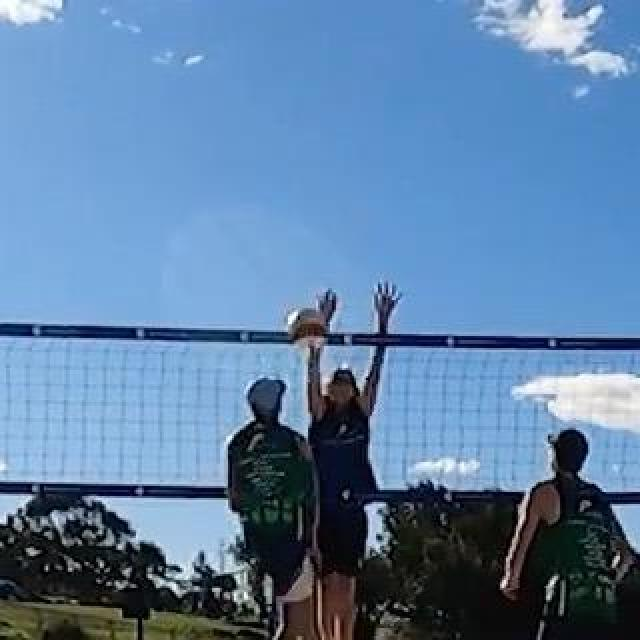volleyball: (287, 305, 327, 347)
